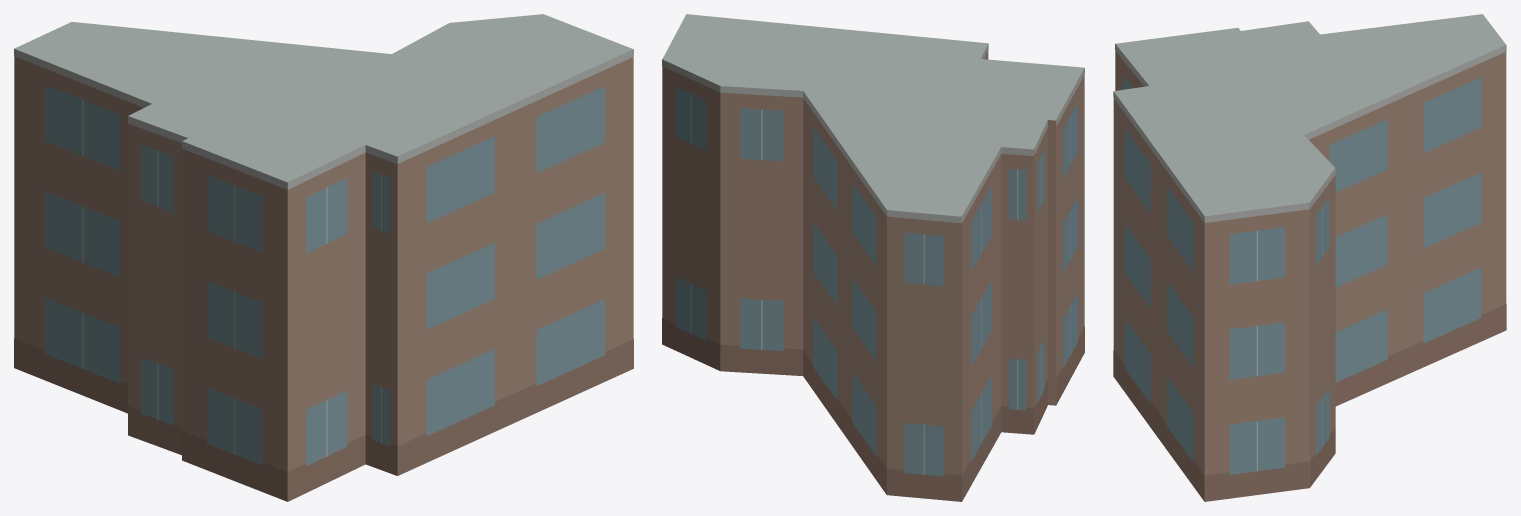
The model's file is survey-upis-33002191.glb.
3 renders of one model, left to right at view 1: azimuth 30°, elevation 25°; view 2: azimuth 150°, elevation 25°; view 3: azimuth 270°, elevation 25°, orthographic. The views are drawn at different scales.
Visible parts, largest first — view 1: survey-upis-33002191.tmp; view 2: survey-upis-33002191.tmp; view 3: survey-upis-33002191.tmp.
Part boxes in pixels (x1,y1,x2,y2): survey-upis-33002191.tmp: (14,14,633,501); survey-upis-33002191.tmp: (662,14,1084,501); survey-upis-33002191.tmp: (1113,14,1506,501).
Size of the model in its own units: 15.98 by 10.5 by 13.11.
